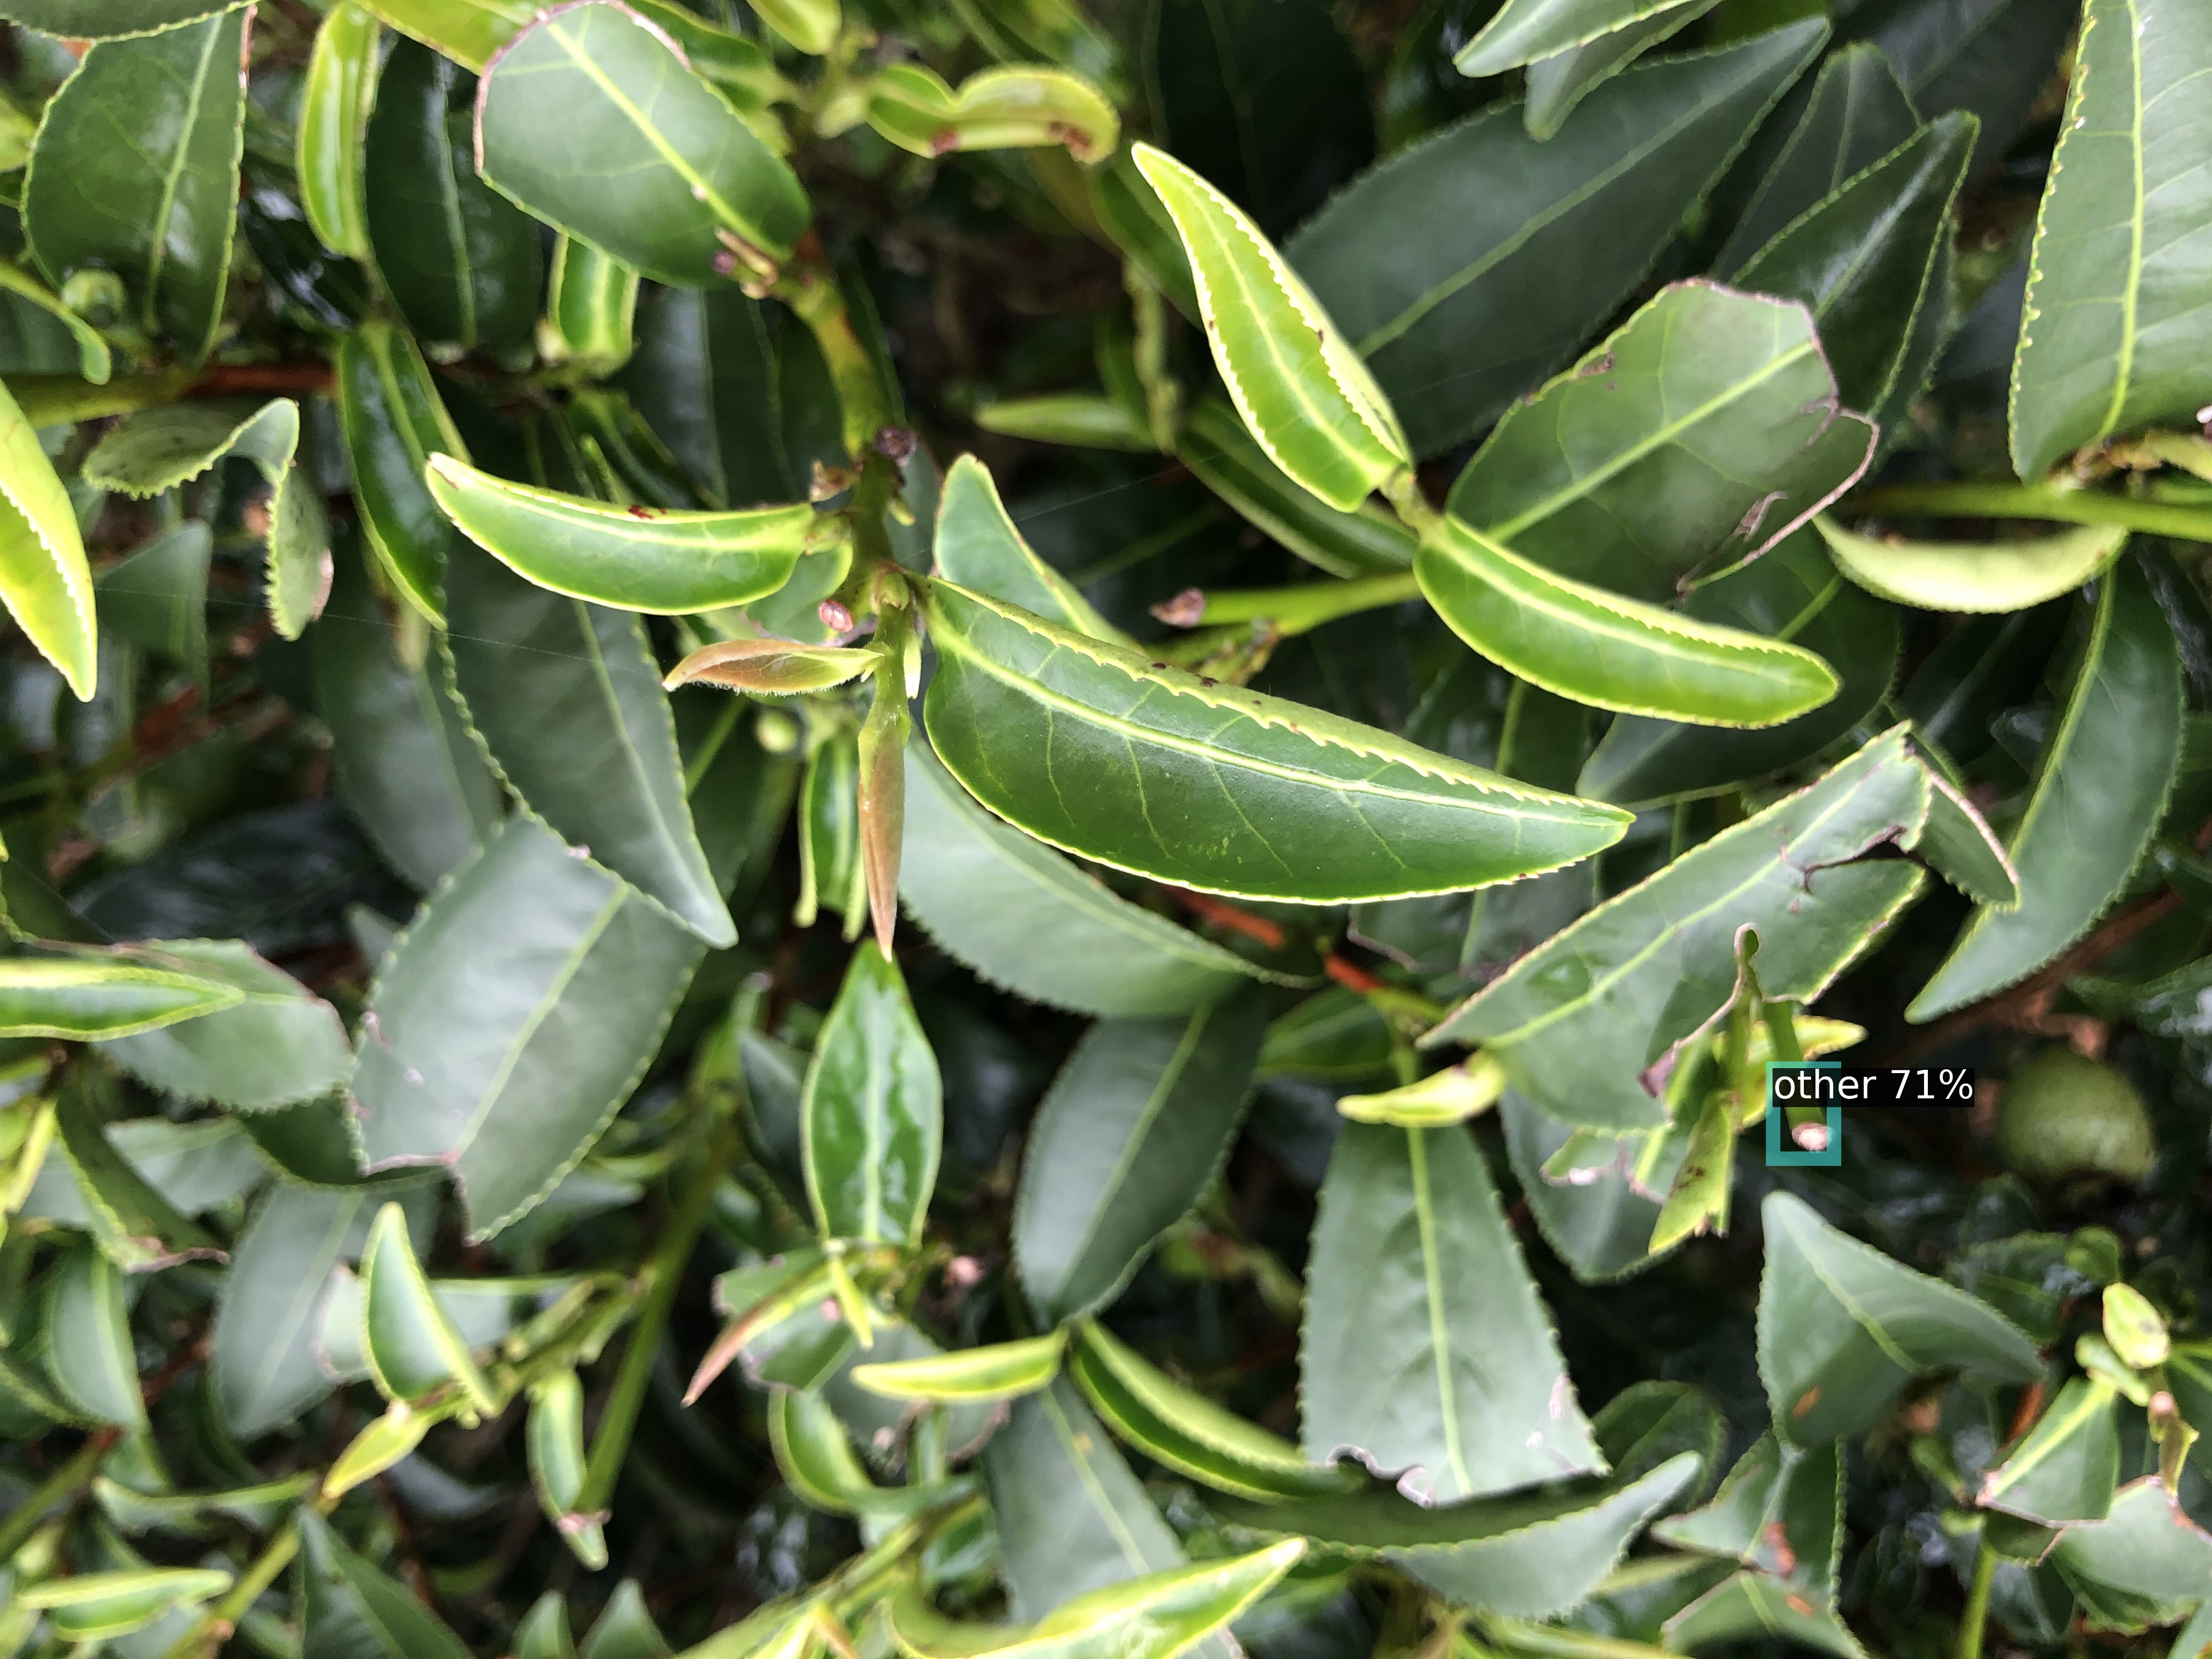other: (1773, 1068, 1834, 1159)
